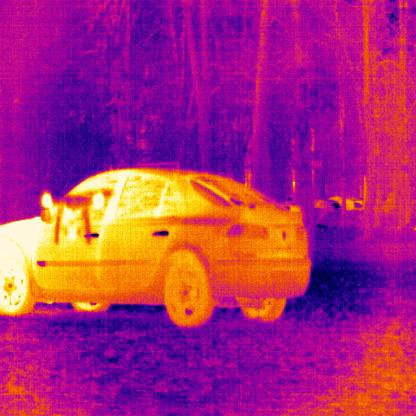drone: (40, 191, 104, 244)
